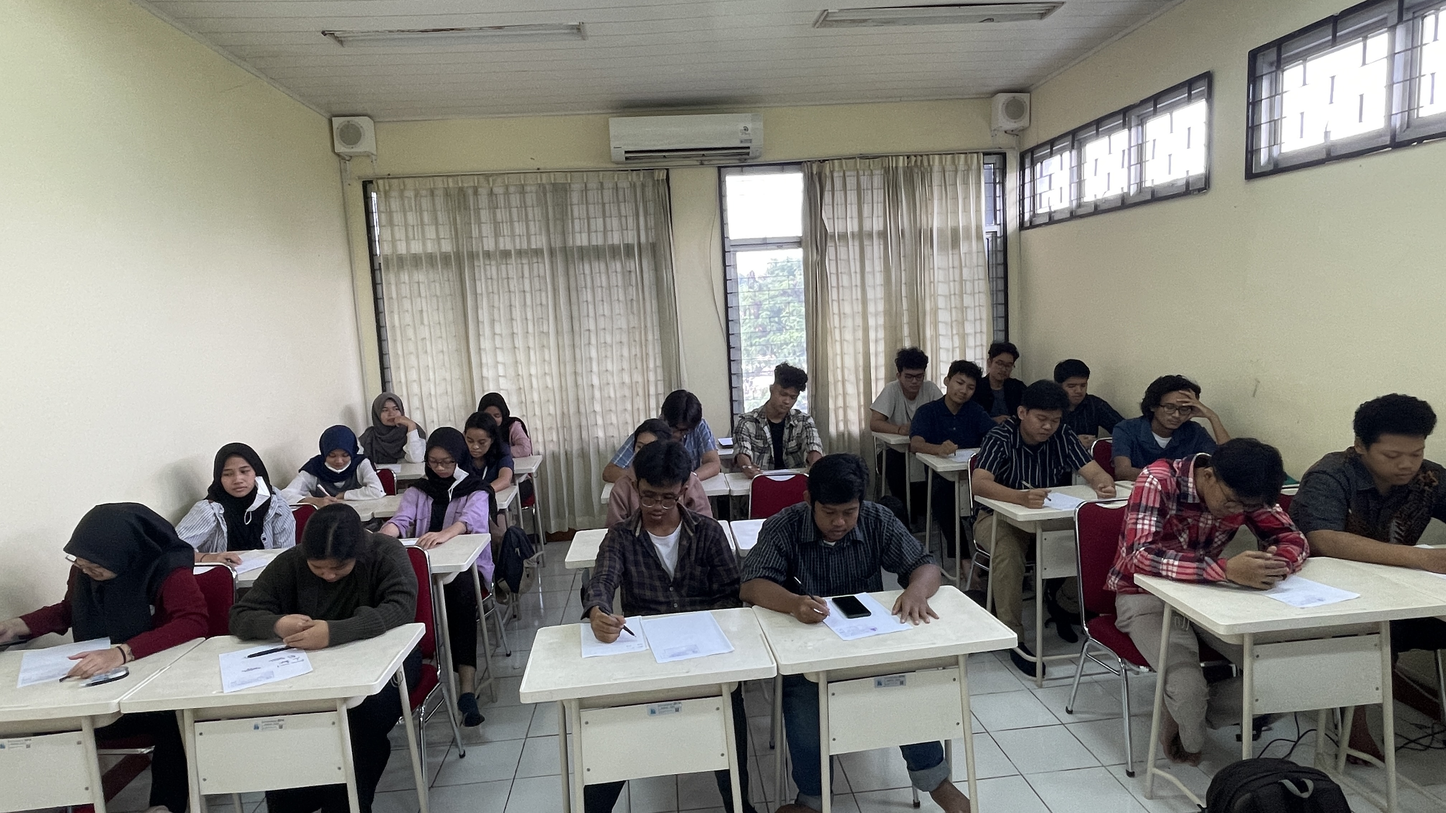cheating: (1191, 436, 1285, 524), (293, 504, 379, 589), (424, 422, 464, 487)
phone: (831, 594, 873, 622)
